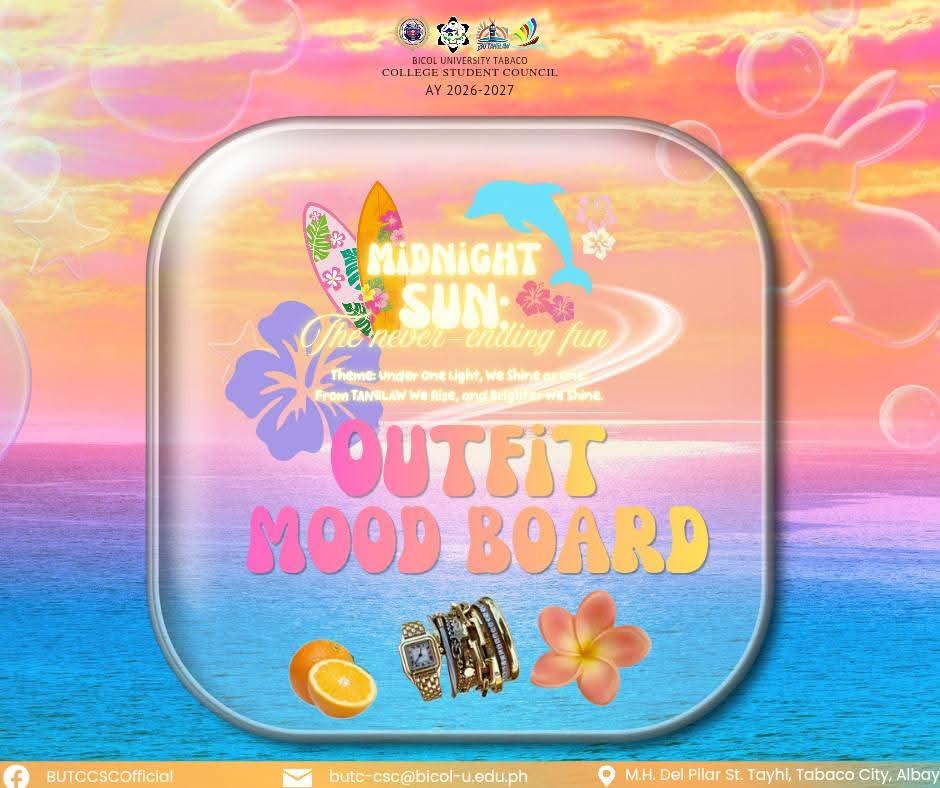embellishment: (145, 114, 775, 745), (647, 20, 939, 353), (201, 177, 417, 469), (279, 583, 664, 725), (79, 0, 314, 146), (0, 44, 121, 283), (453, 172, 624, 323), (2, 292, 38, 469), (871, 376, 939, 464)
logo: (621, 762, 940, 788), (37, 761, 178, 788), (473, 13, 514, 55), (433, 10, 473, 53), (391, 12, 432, 51), (513, 12, 549, 54), (0, 762, 38, 788), (279, 764, 317, 788), (590, 762, 621, 788)
text: (240, 412, 716, 584), (296, 235, 619, 364), (311, 365, 614, 410), (376, 51, 564, 100), (324, 765, 531, 788)
underlay: (0, 0, 939, 759), (207, 0, 939, 157), (869, 129, 939, 216), (756, 204, 792, 280)
